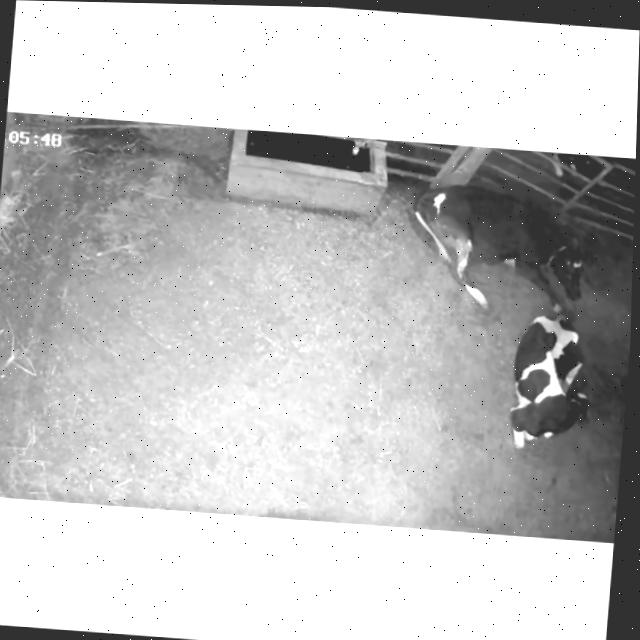lay: (397, 173, 604, 323), (489, 298, 604, 456)
